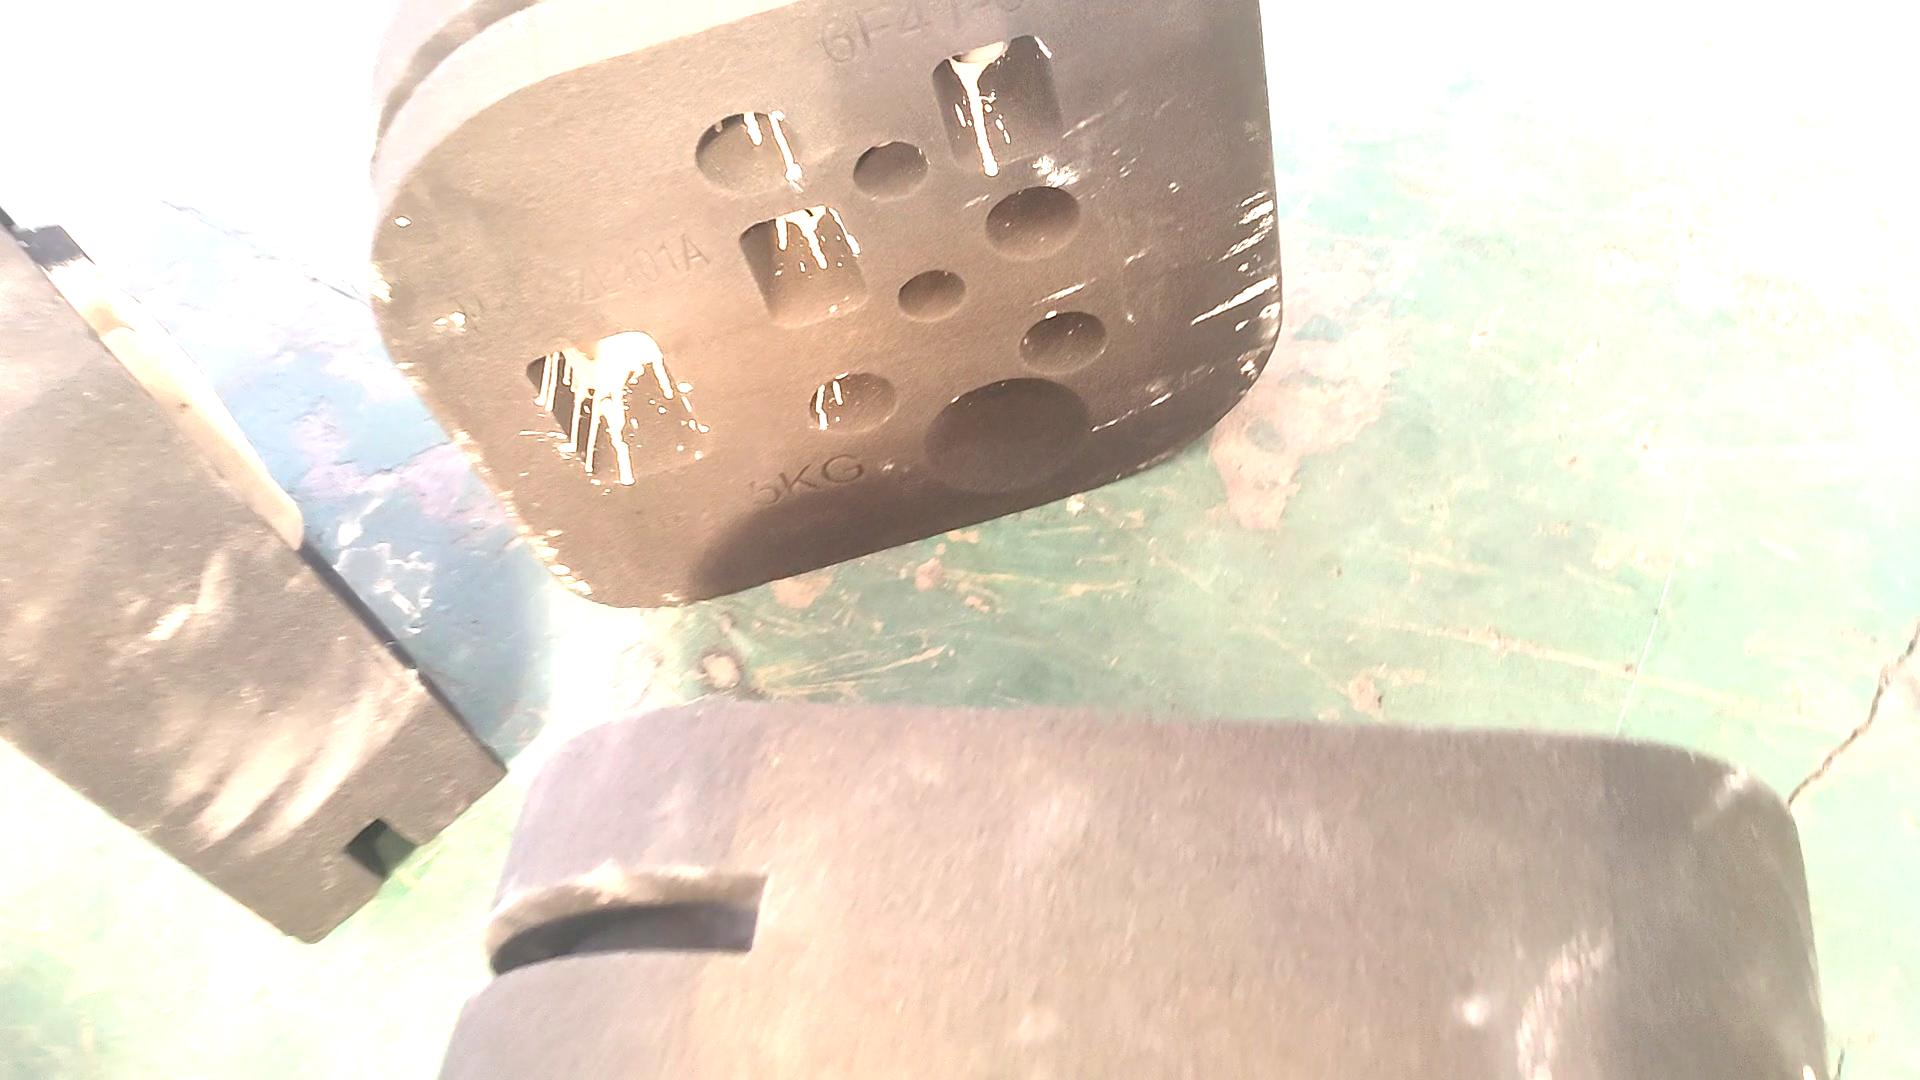pouring hole: (920, 378, 1089, 496)
